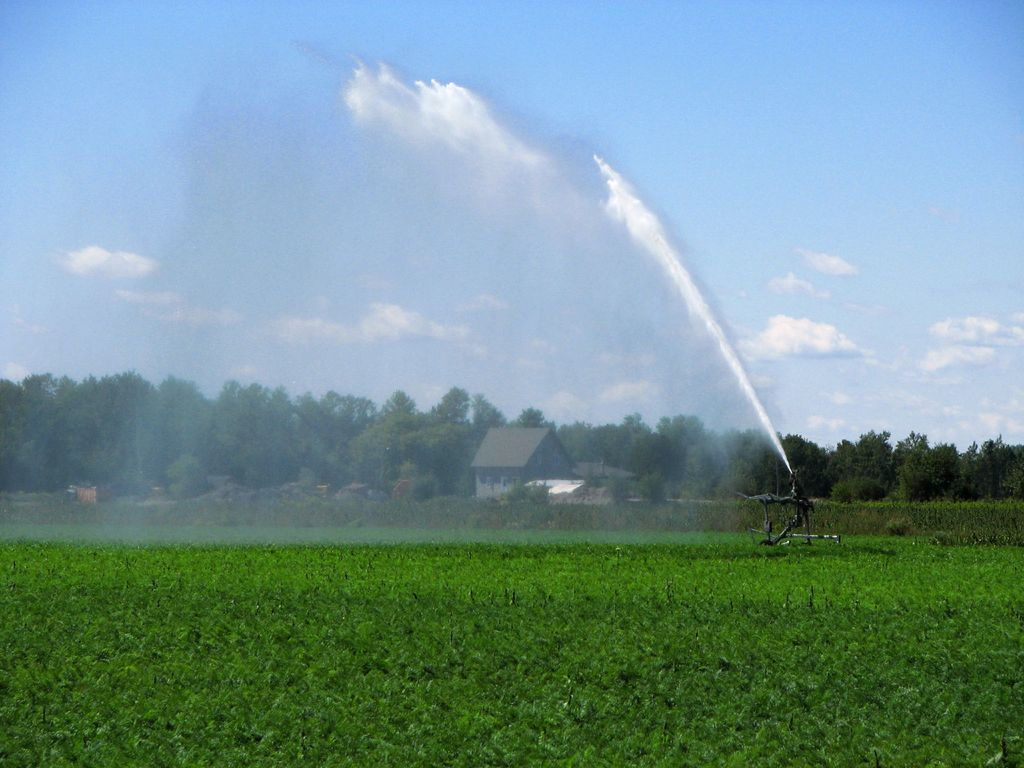Tree: (0, 367, 1024, 504)
